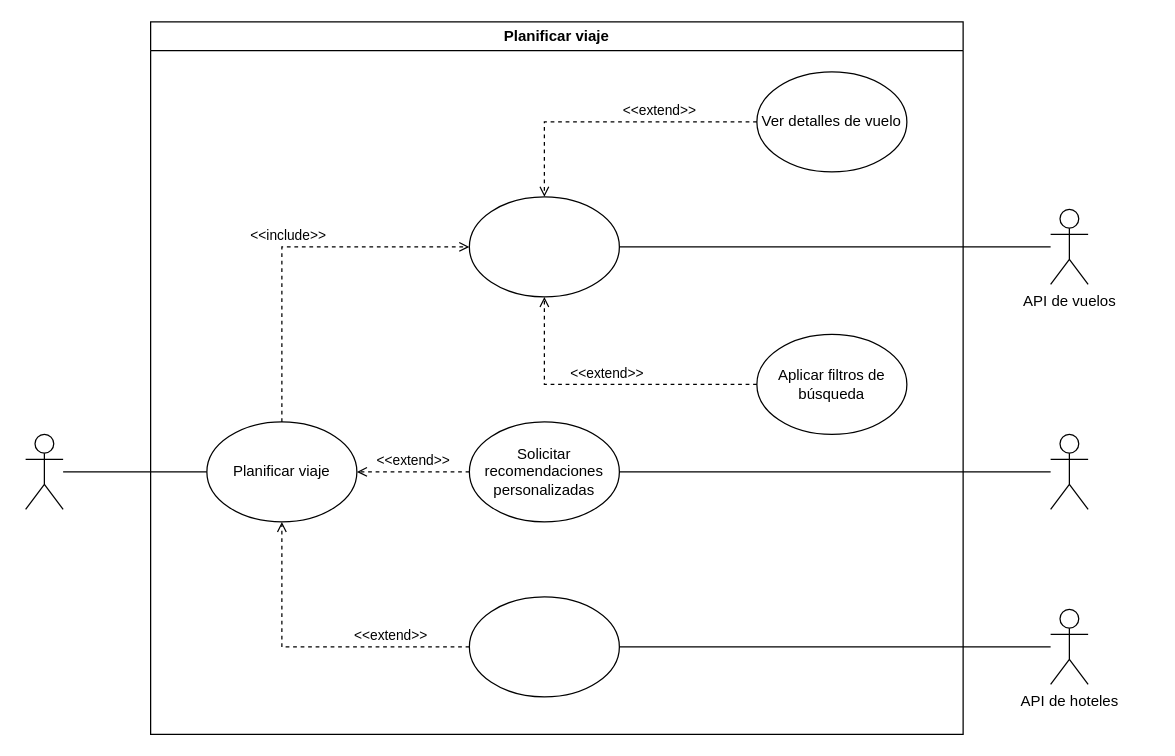
The diagram is 1175 pixels wide and 756 high, and some of its shapes have lost their labels. Here are the shapes that lost their labels. From the top down, the box of each, then its label:
(468, 196, 619, 297): Buscar y comparar vuelos
(24, 433, 63, 509): Viajero
(1049, 433, 1088, 509): API de recomendaciones basada en IA
(468, 596, 619, 697): Estimar costo de hospedaje
